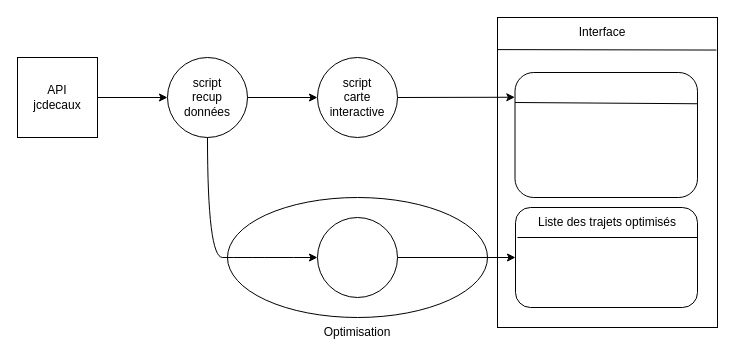
This 735x357 diagram has some shape labels left out. The shapes that lost their labels are listed below. From the top down, each one's centre as x and y in pixels, then its label:
the point at 606,135: Carte
the point at 357,257: script greedAlg
